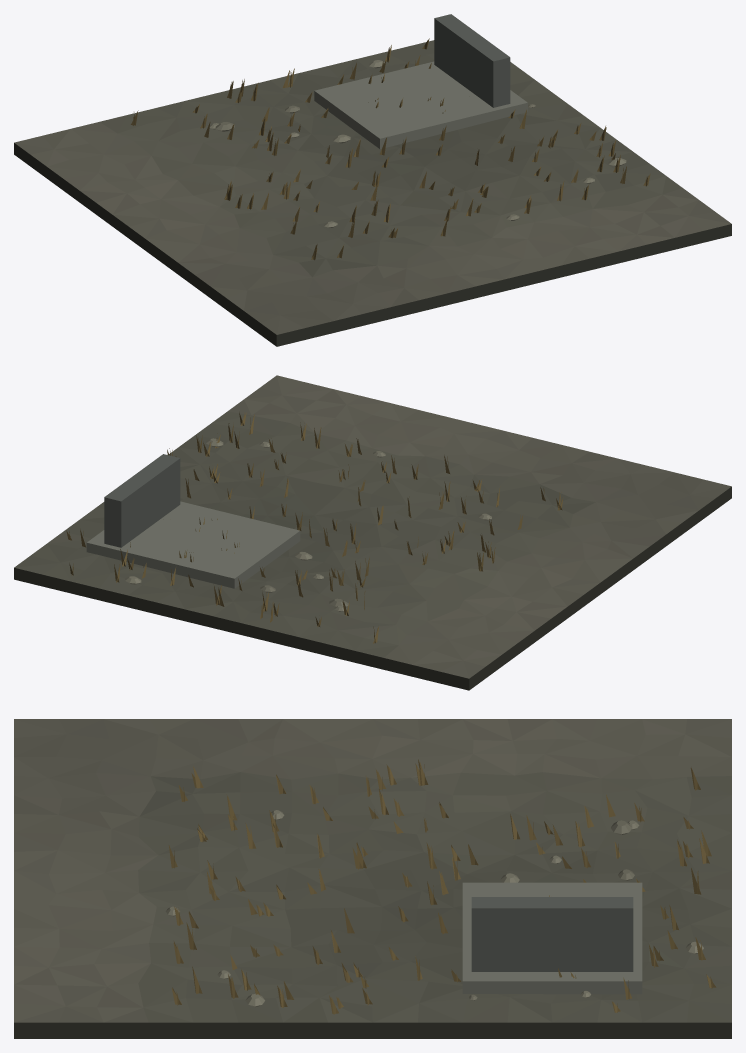
Rendered from CHUNK_ruined_monastery__fallen_guardian_seal__10.glb.
3 views of the same model, one above another, from view 1: azimuth 30°, elevation 25°; view 2: azimuth 150°, elevation 25°; view 3: azimuth 270°, elevation 25° (orthographic). The views are drawn at different scales.
Visible parts, largest first — view 1: CHUNK_ruined_monastery__fallen_guardian_seal__10; view 2: CHUNK_ruined_monastery__fallen_guardian_seal__10; view 3: CHUNK_ruined_monastery__fallen_guardian_seal__10.
Part boxes in pixels (bbox=[...]): CHUNK_ruined_monastery__fallen_guardian_seal__10: bbox=[14, 14, 731, 346]; CHUNK_ruined_monastery__fallen_guardian_seal__10: bbox=[14, 375, 731, 690]; CHUNK_ruined_monastery__fallen_guardian_seal__10: bbox=[14, 719, 731, 1038].
Bounding box in the file's own units: 8 × 1.16 × 8.
